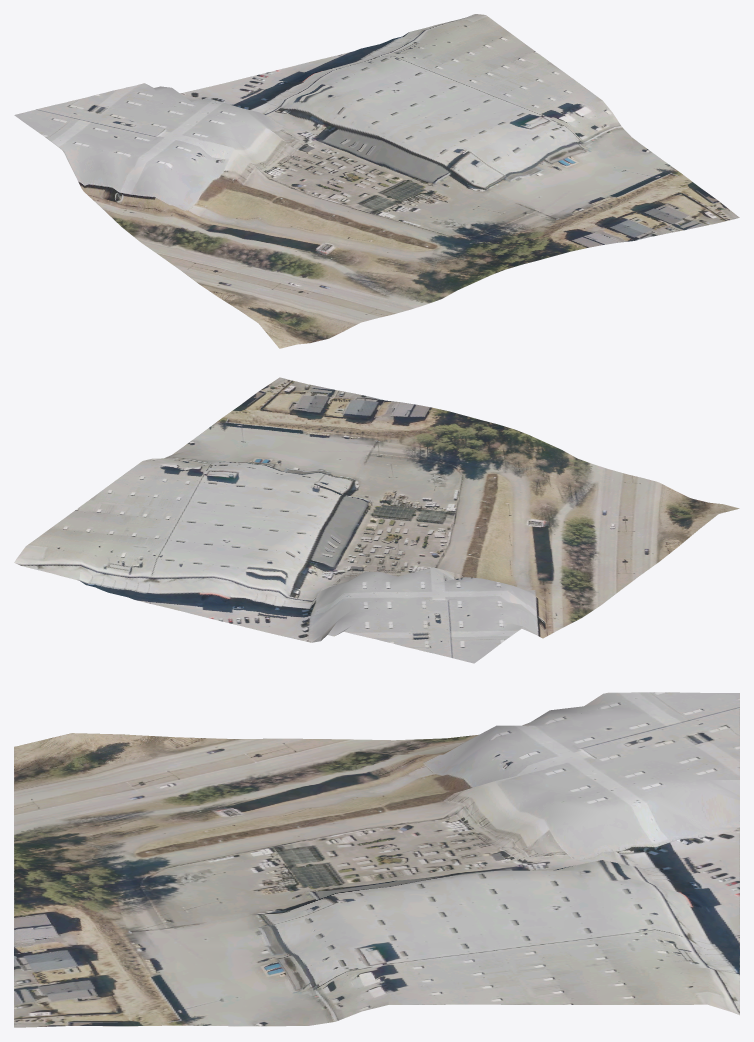
Rendered from CM_Terrain_24491278_6818360.fbx.
3 renders of one model, top to bottom at view 1: azimuth 30°, elevation 25°; view 2: azimuth 150°, elevation 25°; view 3: azimuth 270°, elevation 25°, orthographic. The views are drawn at different scales.
Parts seen in each view (by area): view 1: CM_Terrain_24491278_6818360_LOD0; view 2: CM_Terrain_24491278_6818360_LOD0; view 3: CM_Terrain_24491278_6818360_LOD0.
Part boxes in pixels (x1,y1,x2,y2): CM_Terrain_24491278_6818360_LOD0: (14,14,739,348); CM_Terrain_24491278_6818360_LOD0: (14,377,739,663); CM_Terrain_24491278_6818360_LOD0: (14,692,739,1027).
Size of what is drawn, in the model's own units: 205 by 17.79 by 205.
